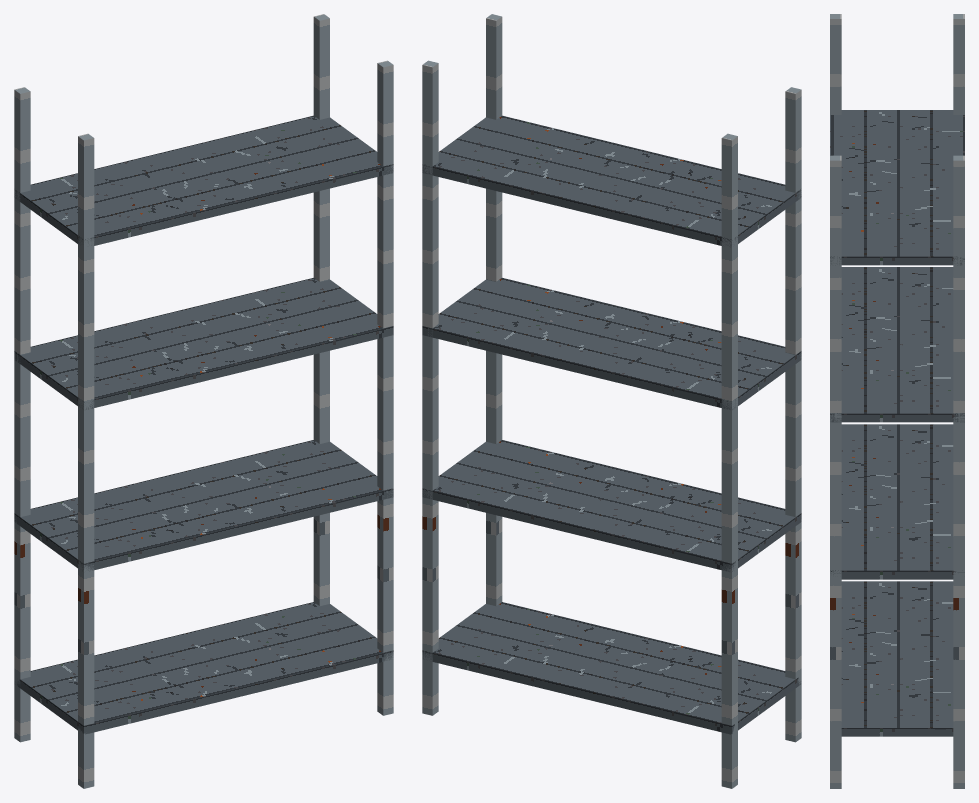
Rendered from SM_Prop_ShelfMetal_01.glb.
3 renders of one model, left to right at view 1: azimuth 30°, elevation 25°; view 2: azimuth 150°, elevation 25°; view 3: azimuth 270°, elevation 25°, orthographic. The views are drawn at different scales.
Visible parts, largest first — view 1: SM_Prop_ShelfMetal_01; view 2: SM_Prop_ShelfMetal_01; view 3: SM_Prop_ShelfMetal_01.
Boxes of the visible parts, bbox=[...] form: SM_Prop_ShelfMetal_01: bbox=[14, 14, 393, 788]; SM_Prop_ShelfMetal_01: bbox=[422, 14, 801, 788]; SM_Prop_ShelfMetal_01: bbox=[830, 14, 964, 788].
Bounding box in the file's own units: 0.9 × 1.8 × 0.35.
1 material, 1 textured.
